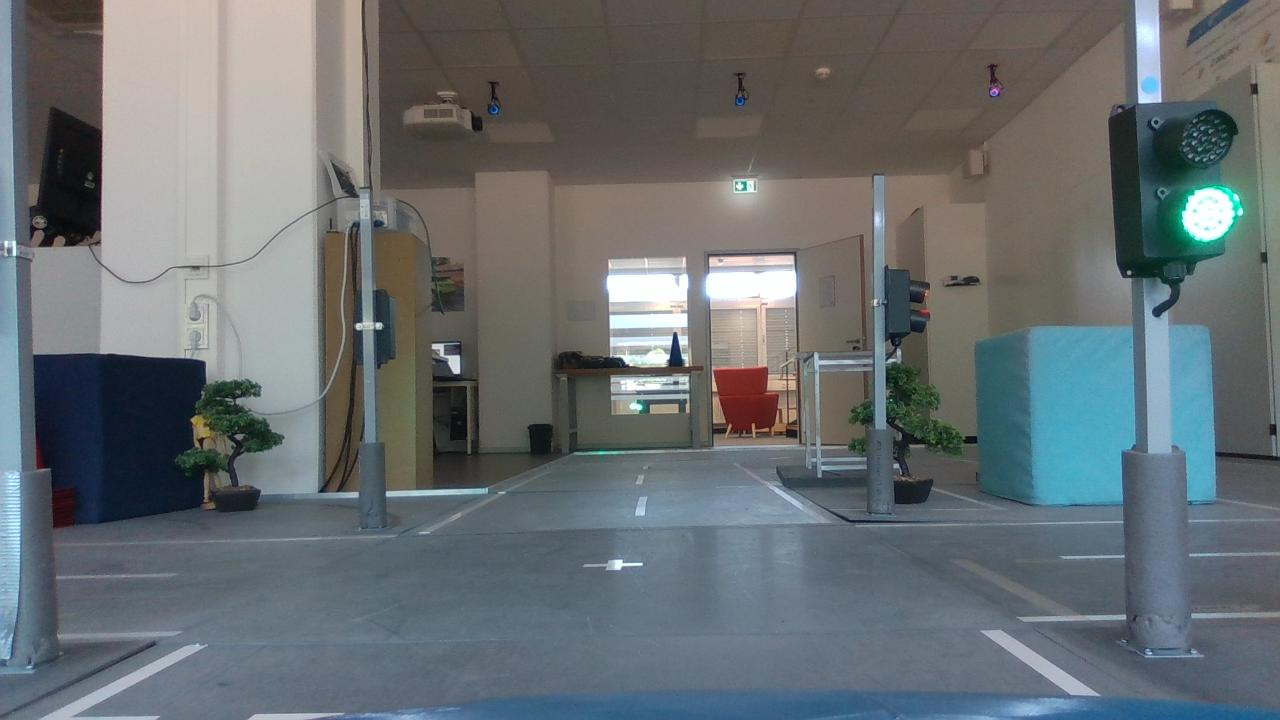traffic_light_green: (1091, 85, 1251, 287)
